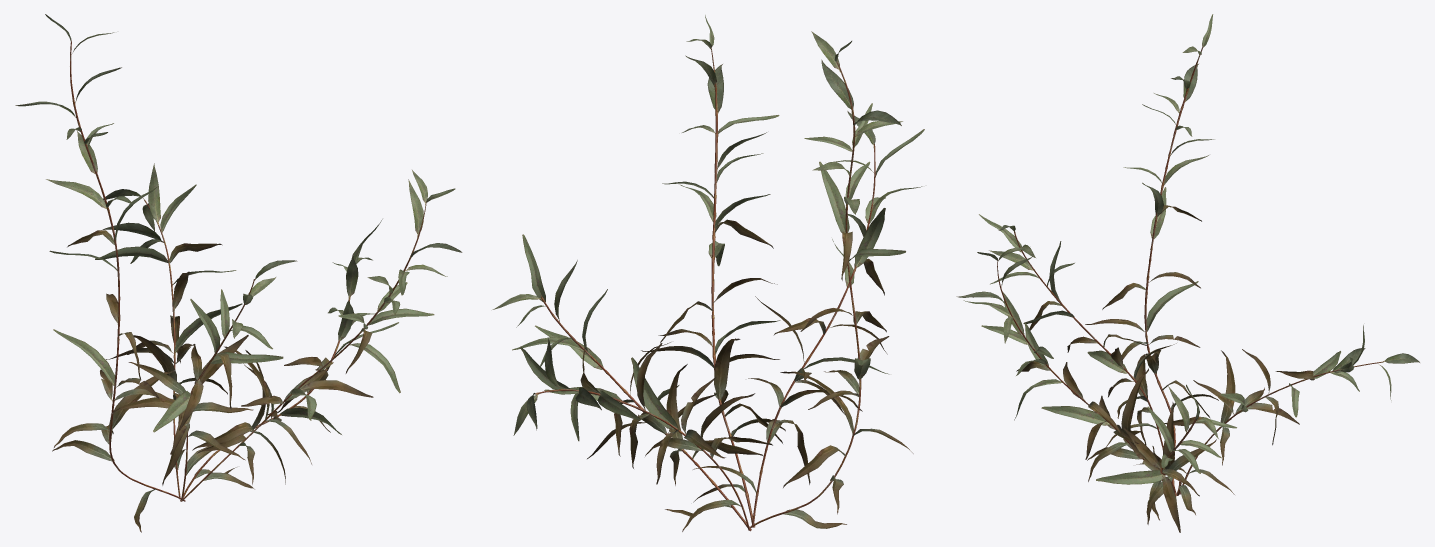
File: nat-shrub-a.glb
3 renders of one model, left to right at view 1: azimuth 30°, elevation 25°; view 2: azimuth 150°, elevation 25°; view 3: azimuth 270°, elevation 25°, orthographic. The views are drawn at different scales.
Parts seen in each view (by area): view 1: shrub_02_a; view 2: shrub_02_a; view 3: shrub_02_a.
Boxes of the visible parts, box(x1,y1,x2,y2) form: shrub_02_a: box(15, 14, 462, 532); shrub_02_a: box(492, 15, 924, 531); shrub_02_a: box(956, 14, 1419, 532).
Bounding box in the file's own units: 1.31 × 1.69 × 1.64.
1 material, 1 textured.
